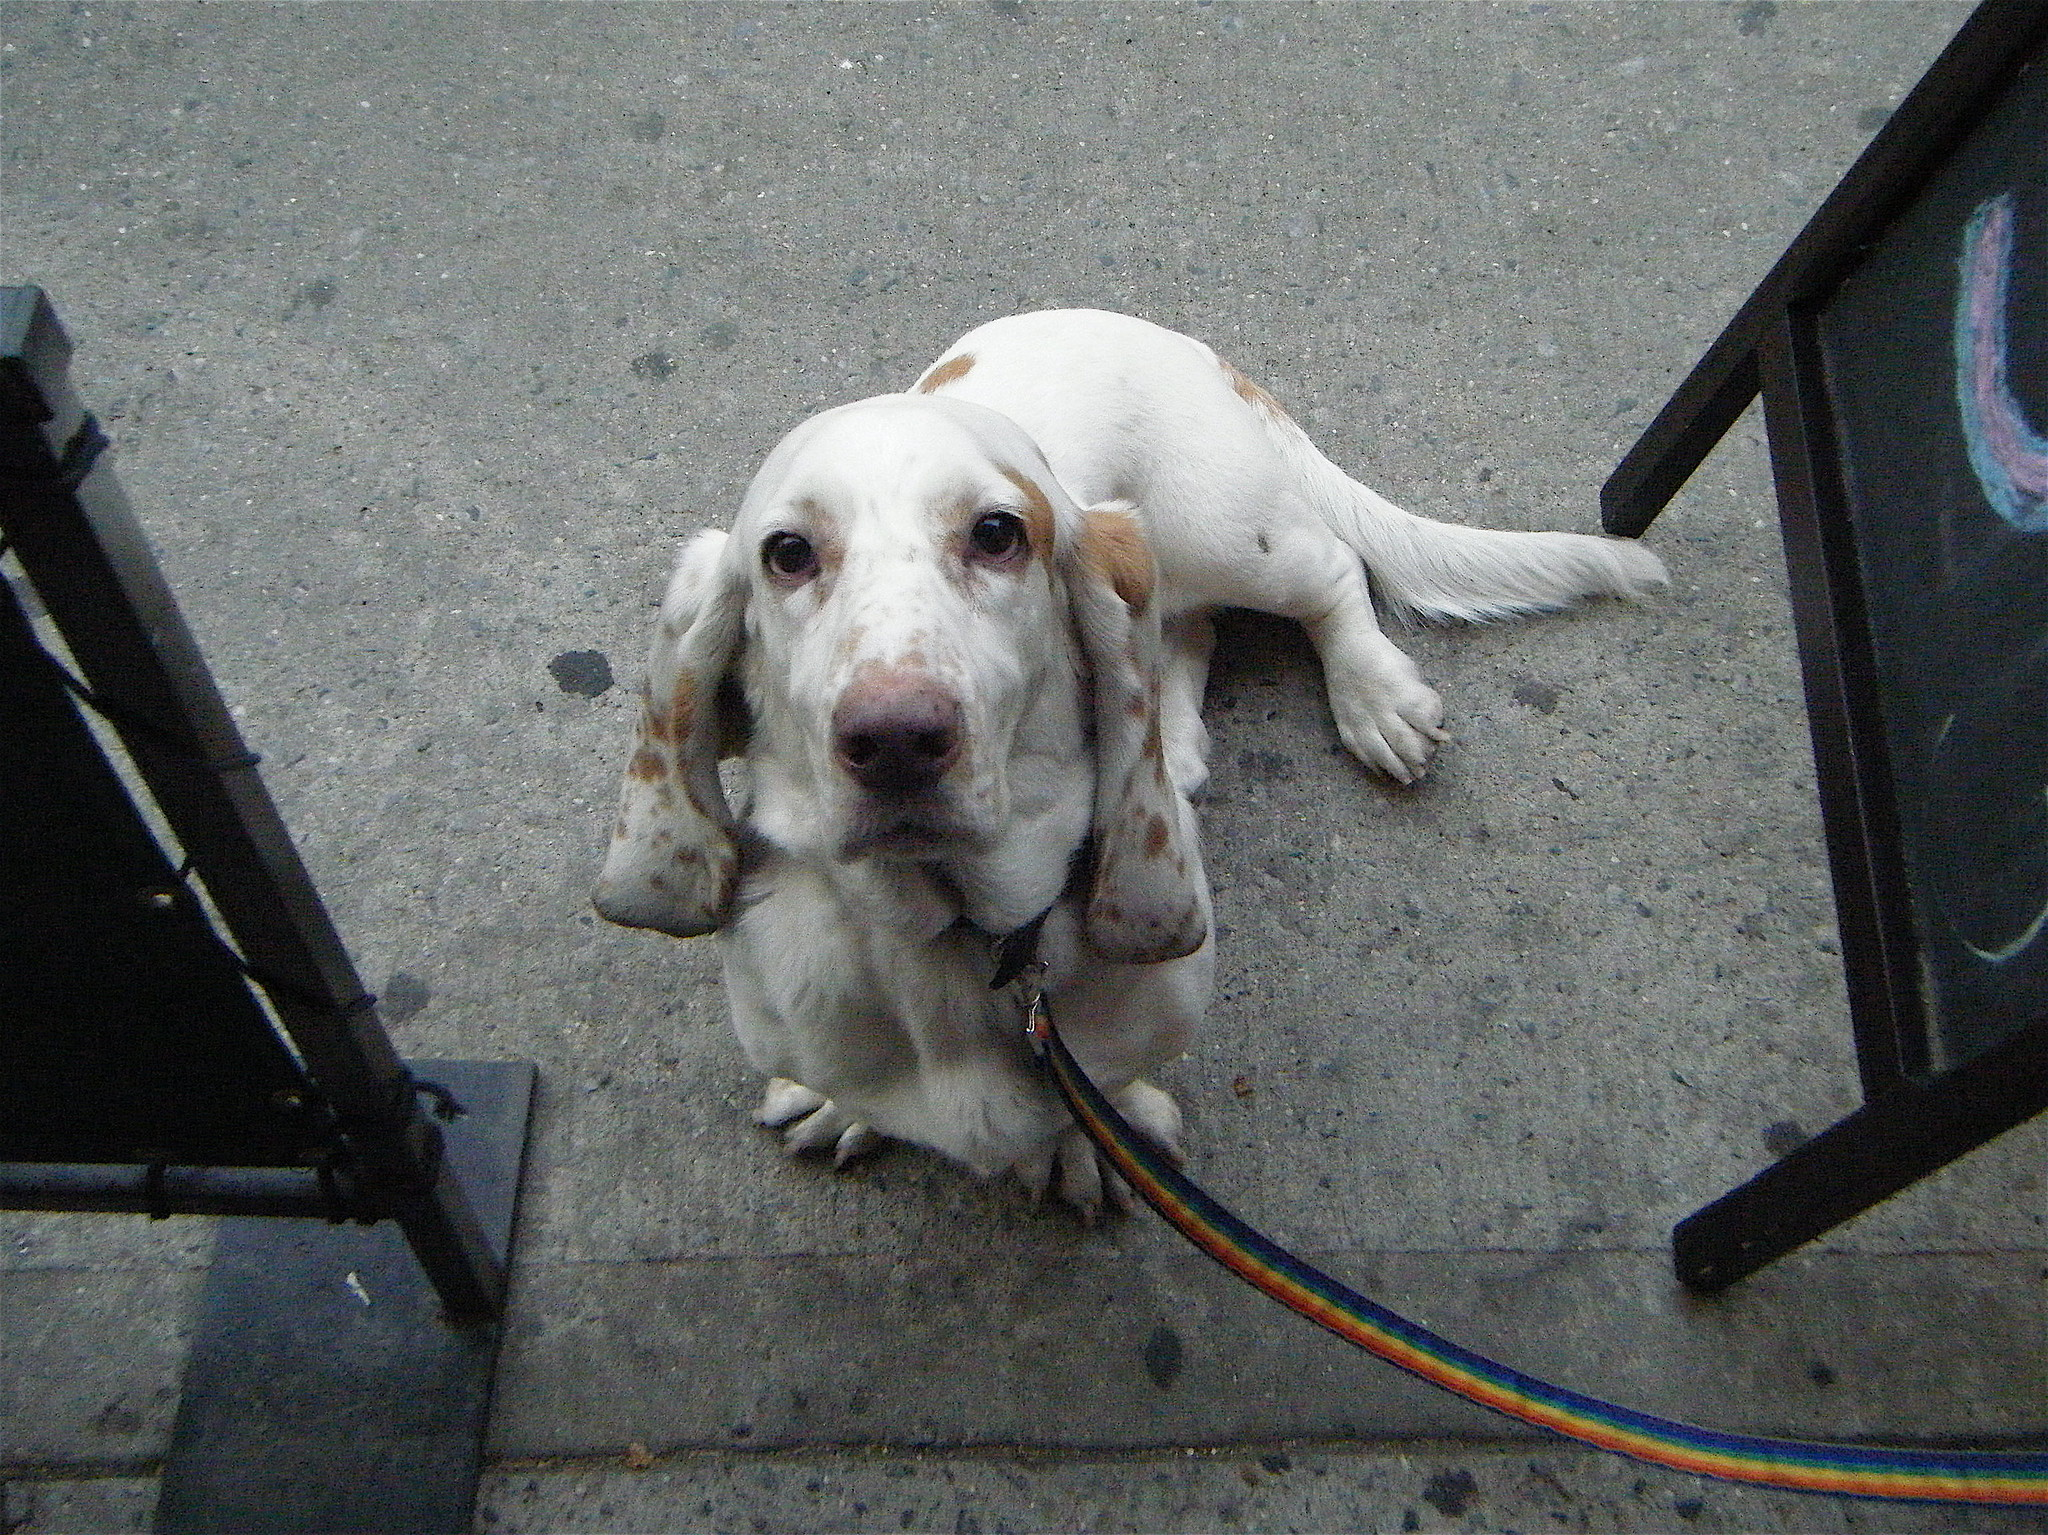dog: (606, 272, 1672, 1221)
